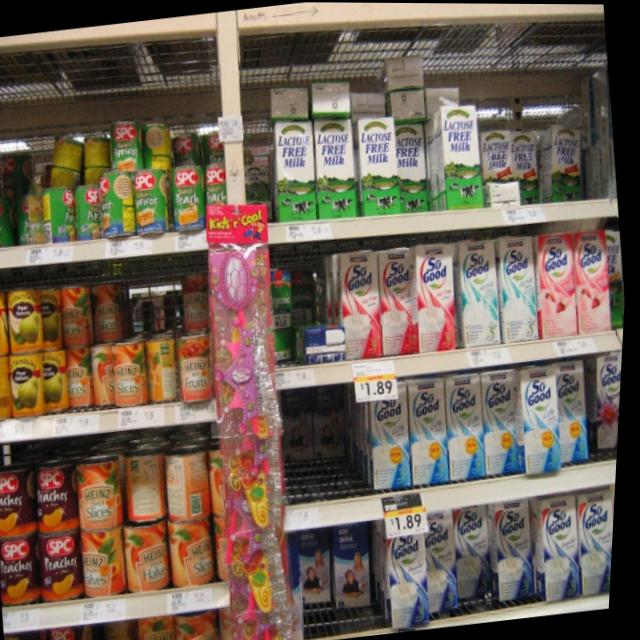q262: (475, 365, 538, 477), (402, 371, 457, 487), (363, 383, 422, 486), (444, 367, 496, 478), (521, 361, 572, 462)
